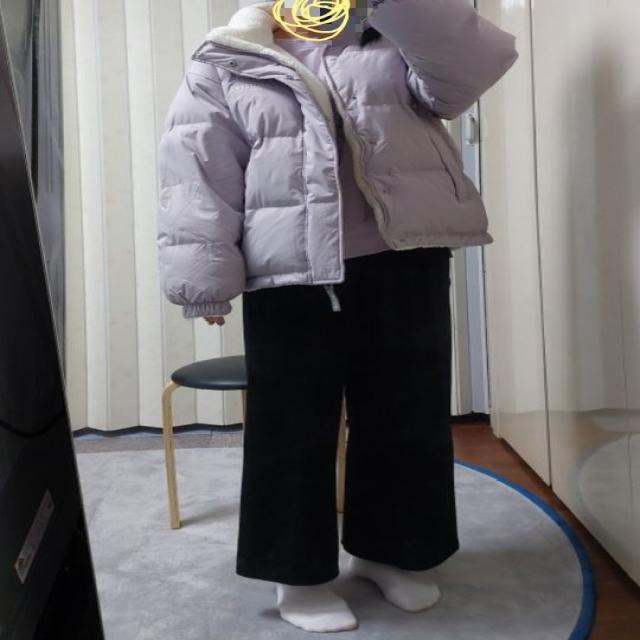padding: (155, 0, 517, 319)
trainingpants: (240, 235, 461, 587)
